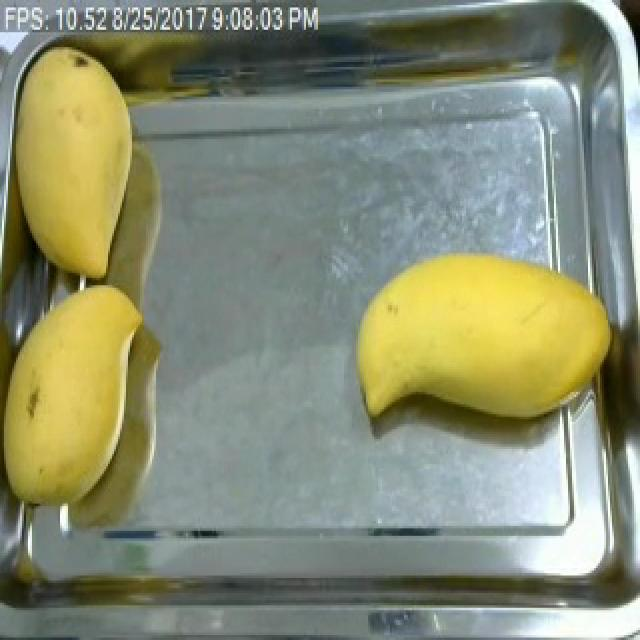fruit: (342, 243, 622, 434), (2, 35, 152, 290), (0, 273, 146, 516)
